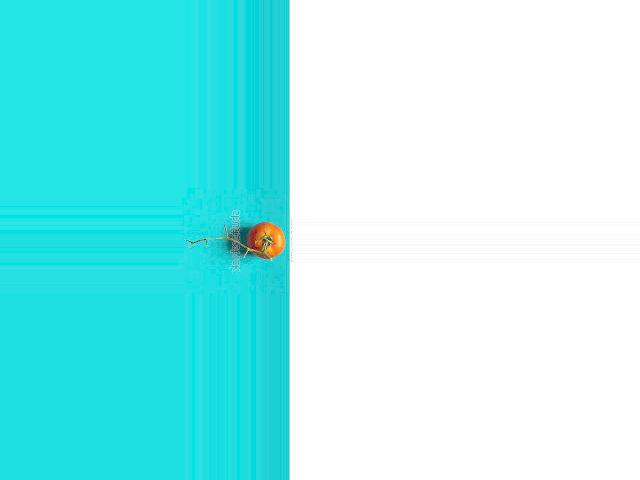tomato: (248, 222, 284, 260)
